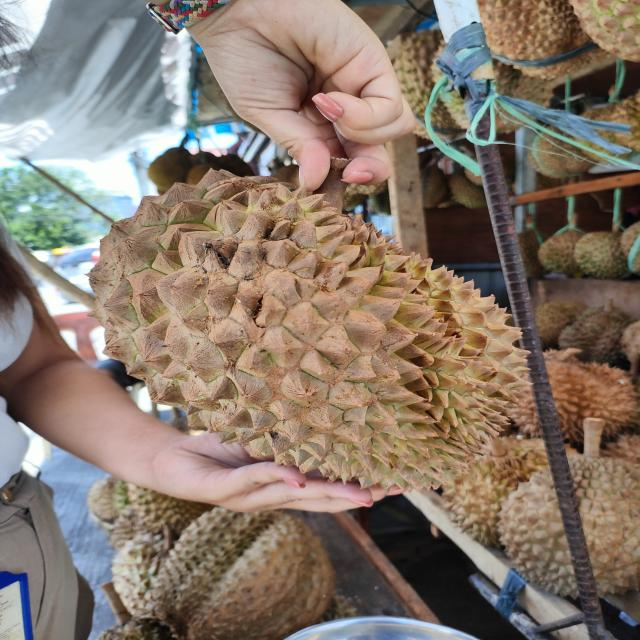mature: (89, 202, 534, 494)
